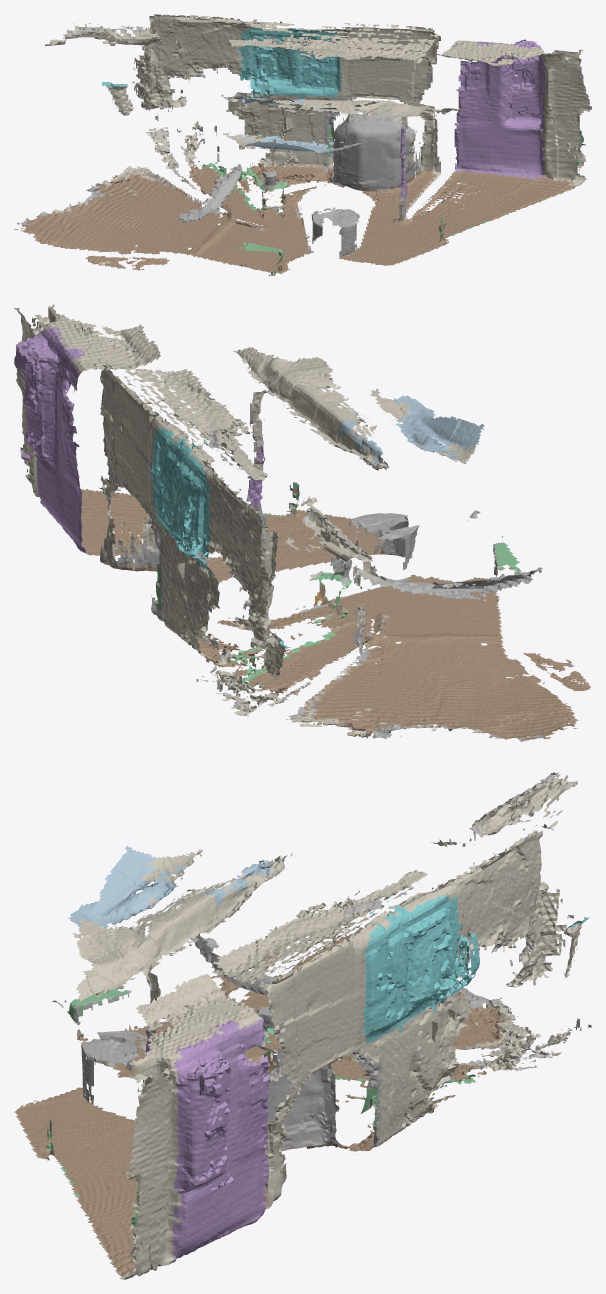
Rendered from background.glb.
3 views of the same model, one above another, from view 1: azimuth 30°, elevation 25°; view 2: azimuth 150°, elevation 25°; view 3: azimuth 270°, elevation 25° (orthographic). The views are drawn at different scales.
Visible parts, largest first — view 1: AbundanceScan-2026-07-18_182936.glb; view 2: AbundanceScan-2026-07-18_182936.glb; view 3: AbundanceScan-2026-07-18_182936.glb.
Boxes of the visible parts, x1=… form: AbundanceScan-2026-07-18_182936.glb: x1=14, y1=14, x2=591, y2=275; AbundanceScan-2026-07-18_182936.glb: x1=14, y1=304, x2=590, y2=742; AbundanceScan-2026-07-18_182936.glb: x1=14, y1=772, x2=591, y2=1279.
Bounding box in the file's own units: 8.33 × 2.59 × 5.45.
